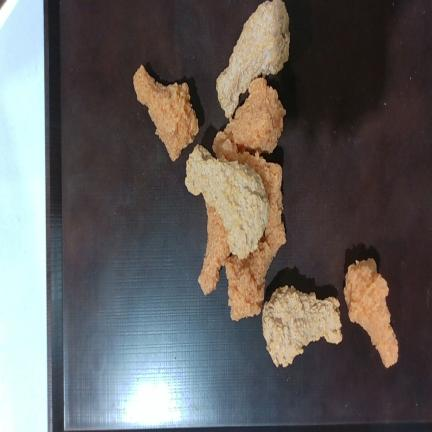chicken: (185, 145, 269, 259), (216, 0, 290, 119), (262, 286, 342, 367), (134, 65, 198, 160), (344, 258, 398, 367), (225, 229, 284, 320), (222, 78, 286, 153)
